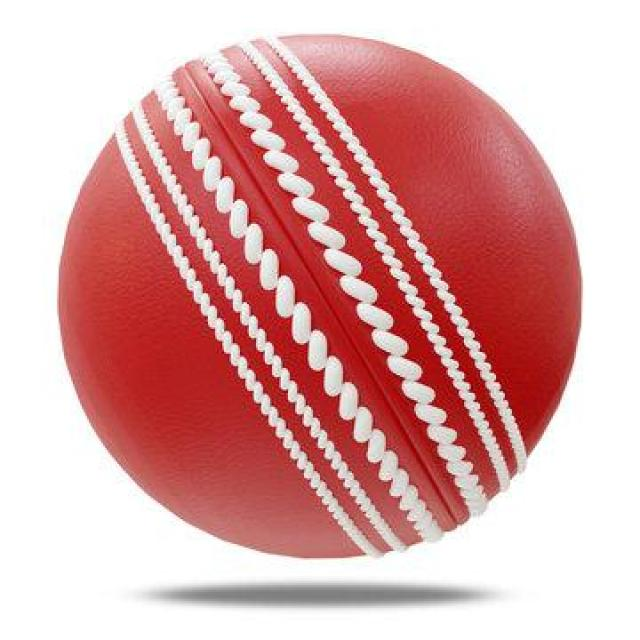ball: (58, 36, 580, 558)
